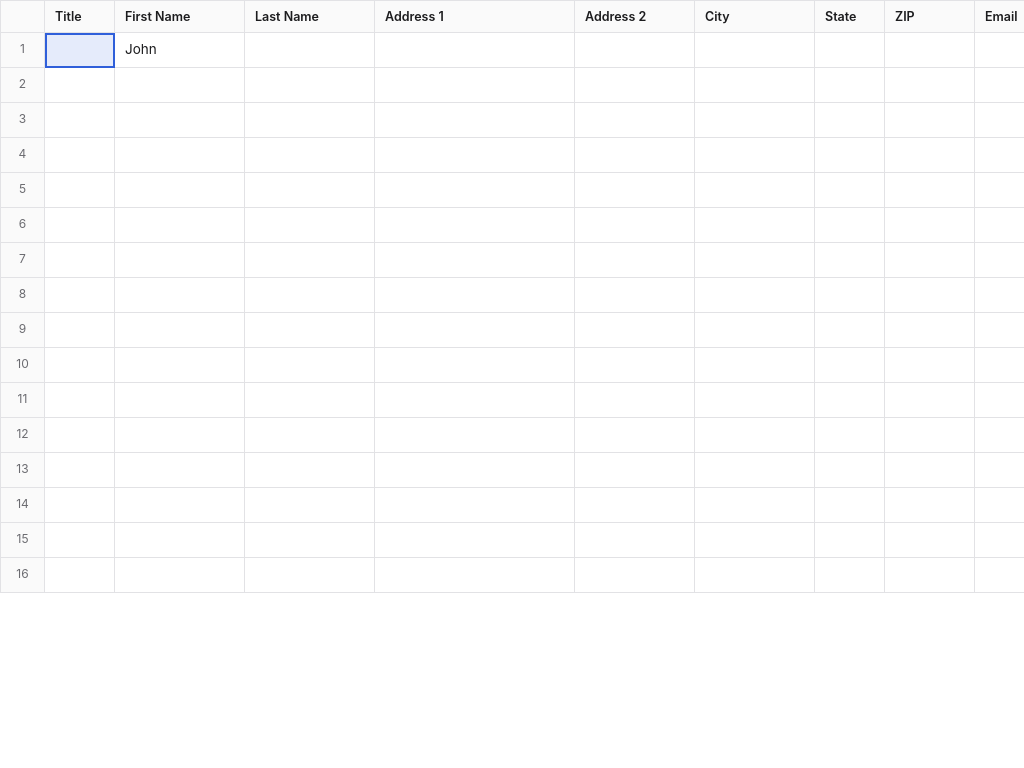
Test: selection vs. editing › Escape cancels editing and restores the previous value
Double-click the cell "John": (180, 50) x1=114 y1=32 x2=244 y2=68
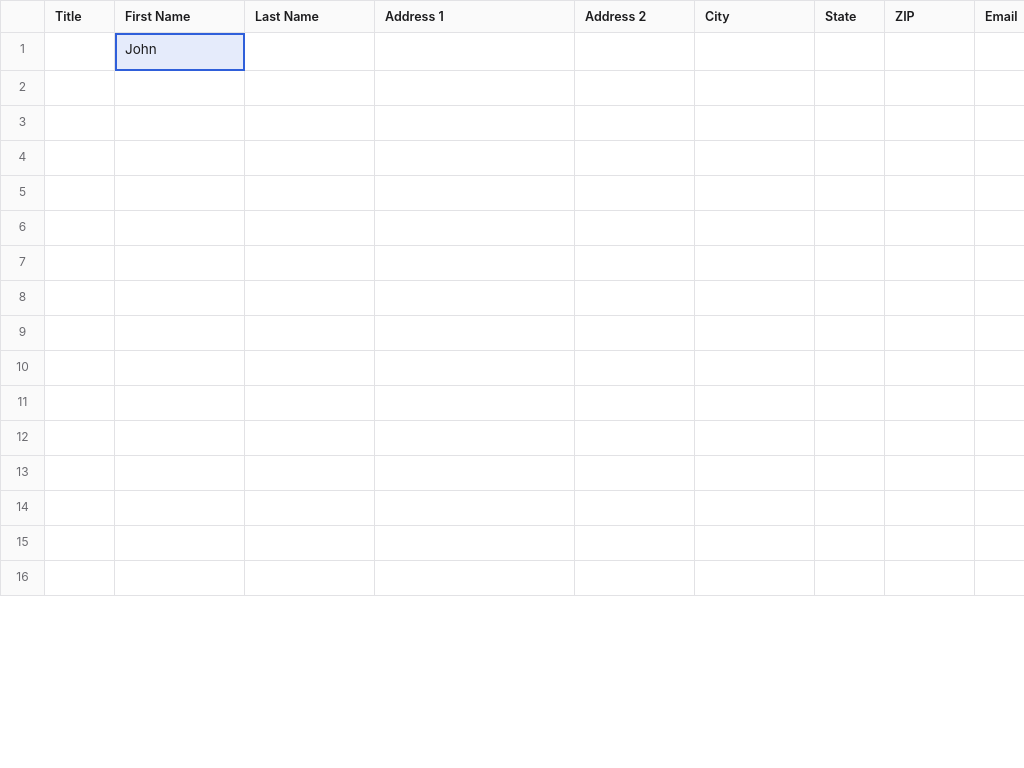
Replace the text in the text box with class "cell-editor" with "Changed": (180, 50) x1=115 y1=33 x2=244 y2=67
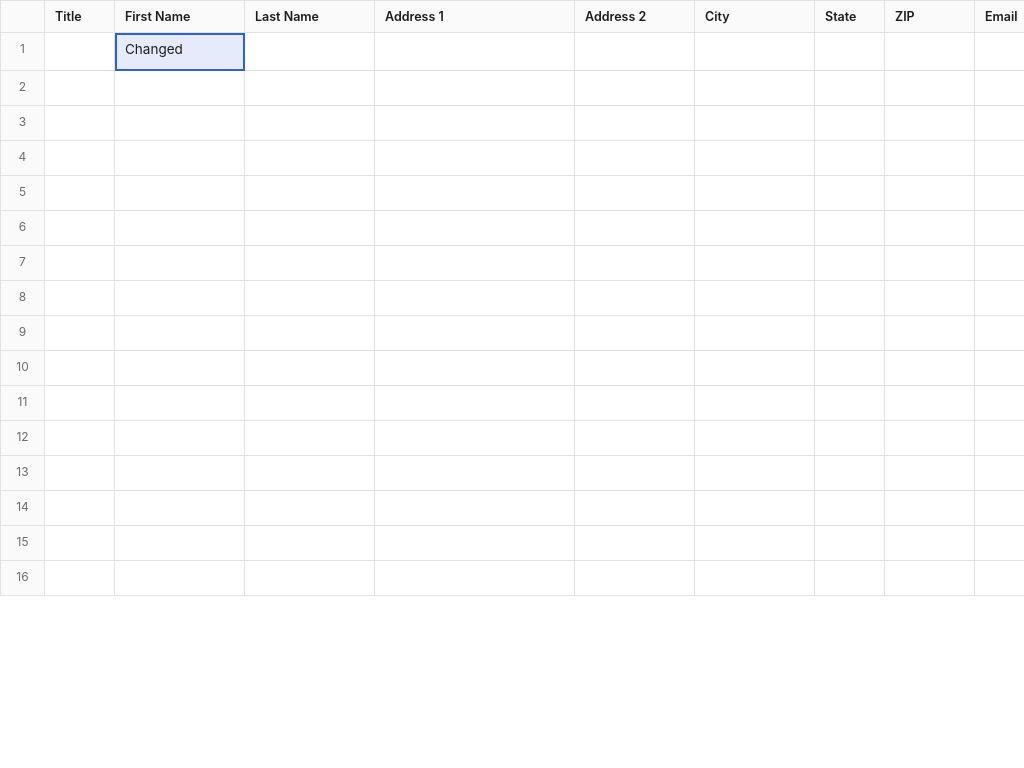
Press Escape in the text box with class "cell-editor", box x1=115 y1=33 x2=244 y2=67
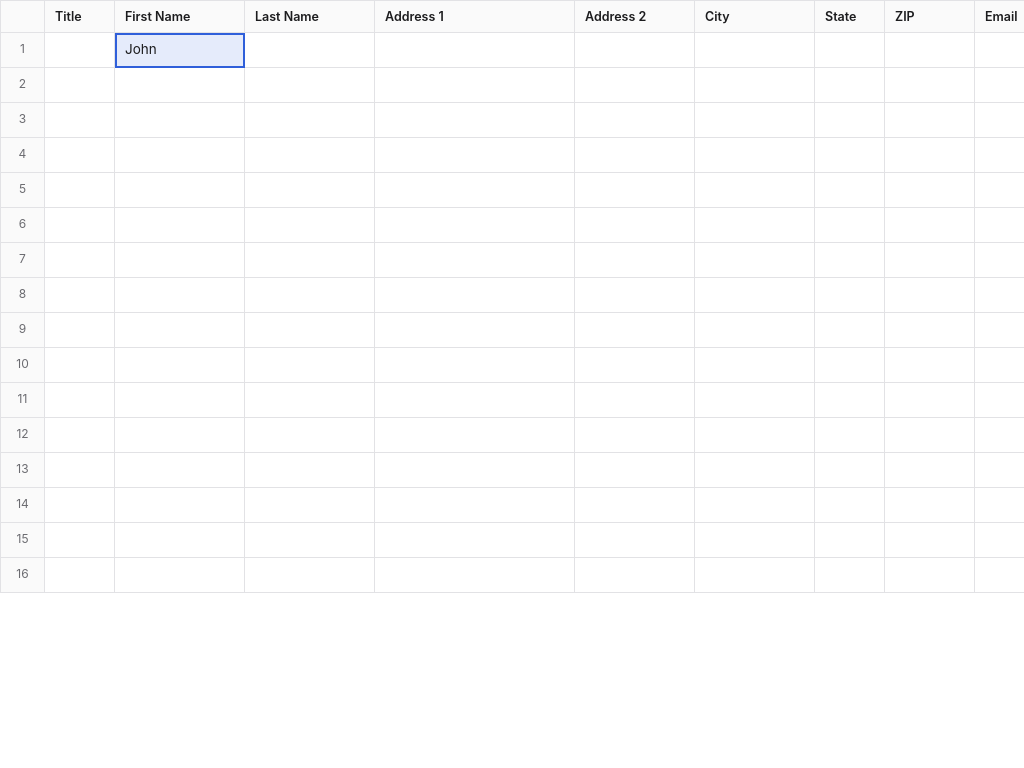
Expected: the text box with class "cell-editor" is gone
Expected: the text with class "cell-display" reads "John", x1=125 y1=41 x2=157 y2=57
